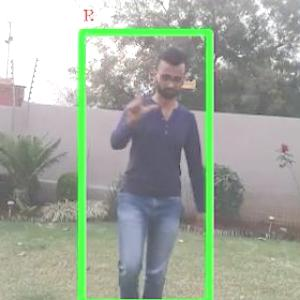land_hand: (120, 84, 154, 120)
